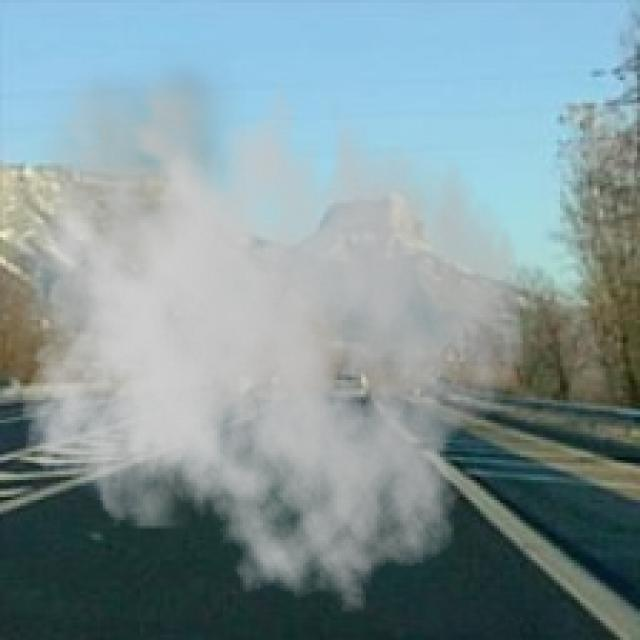Smoke: (6, 46, 526, 614)
